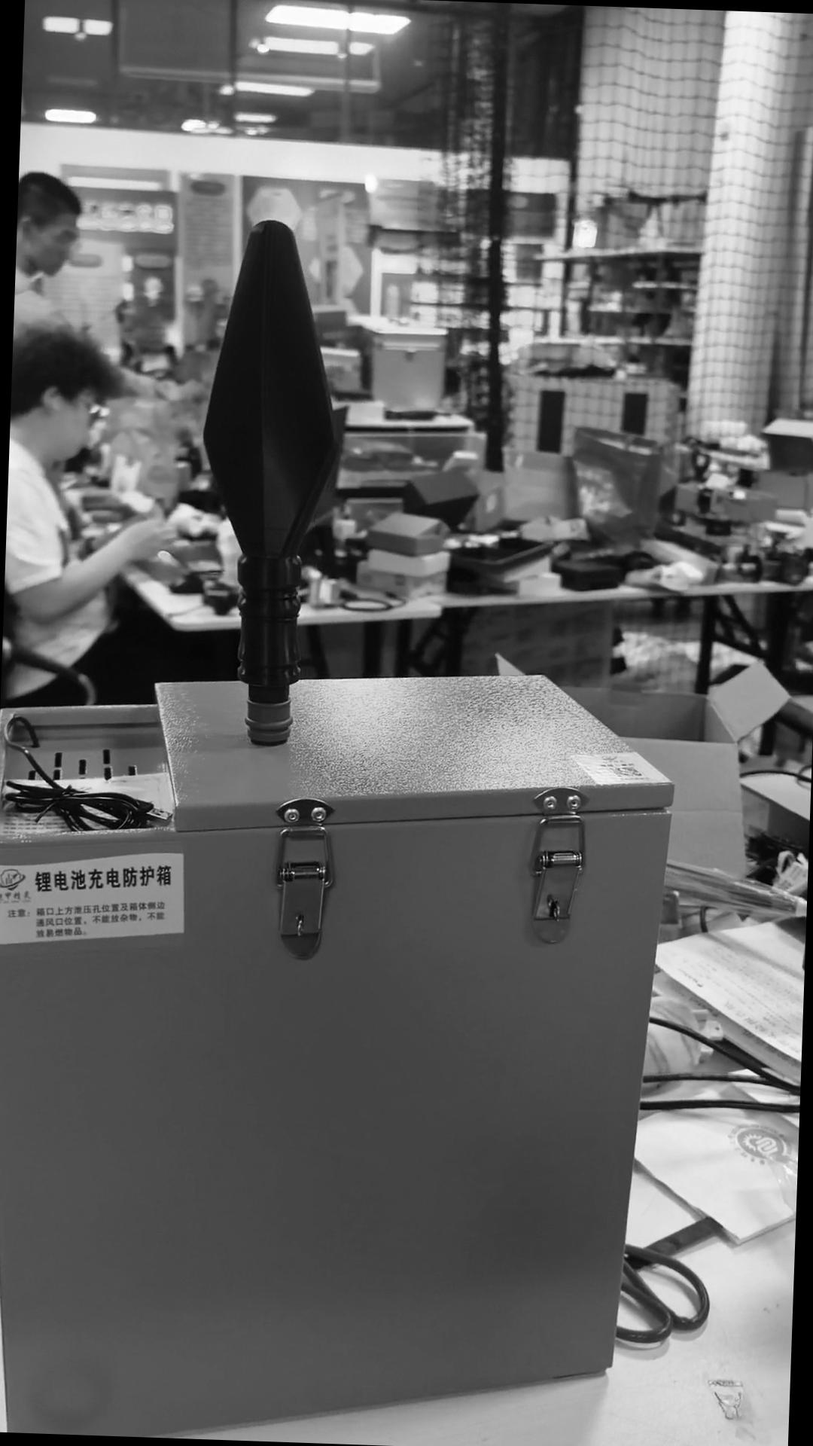base: (244, 697, 295, 746)
